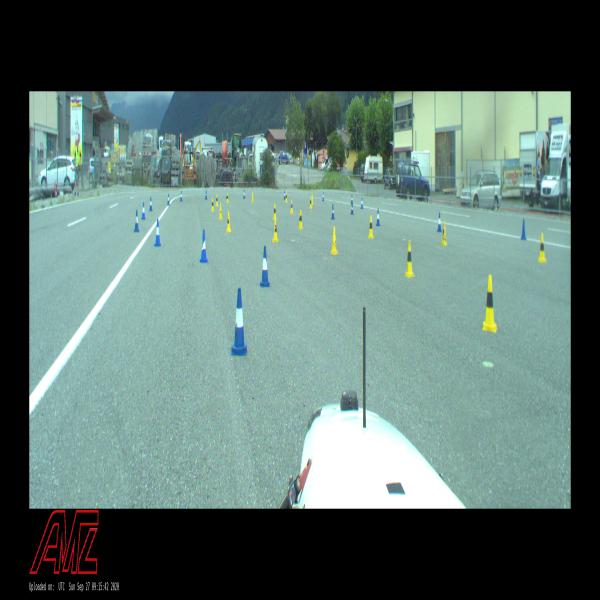blue_cone: (231, 288, 246, 354), (260, 246, 270, 286), (200, 230, 208, 262), (155, 219, 161, 246), (134, 210, 139, 232), (521, 218, 526, 240), (437, 212, 442, 231), (376, 209, 380, 226), (142, 202, 146, 219), (331, 204, 335, 219), (149, 197, 153, 211), (350, 202, 354, 215), (350, 193, 354, 205), (167, 194, 170, 205), (361, 198, 363, 208), (205, 190, 207, 200), (180, 191, 182, 201), (284, 190, 286, 200), (322, 192, 324, 201), (244, 190, 245, 199)
yellow_cone: (483, 275, 496, 331), (406, 241, 414, 276), (538, 233, 546, 262), (331, 226, 337, 254), (442, 221, 447, 245), (368, 216, 373, 238), (273, 220, 278, 242), (226, 211, 231, 232), (298, 210, 303, 229), (273, 204, 277, 220), (219, 204, 223, 219), (211, 198, 214, 212), (216, 194, 219, 206), (290, 200, 293, 212), (226, 192, 229, 203), (310, 196, 312, 209), (312, 194, 314, 205), (252, 192, 254, 202), (286, 192, 288, 202)
